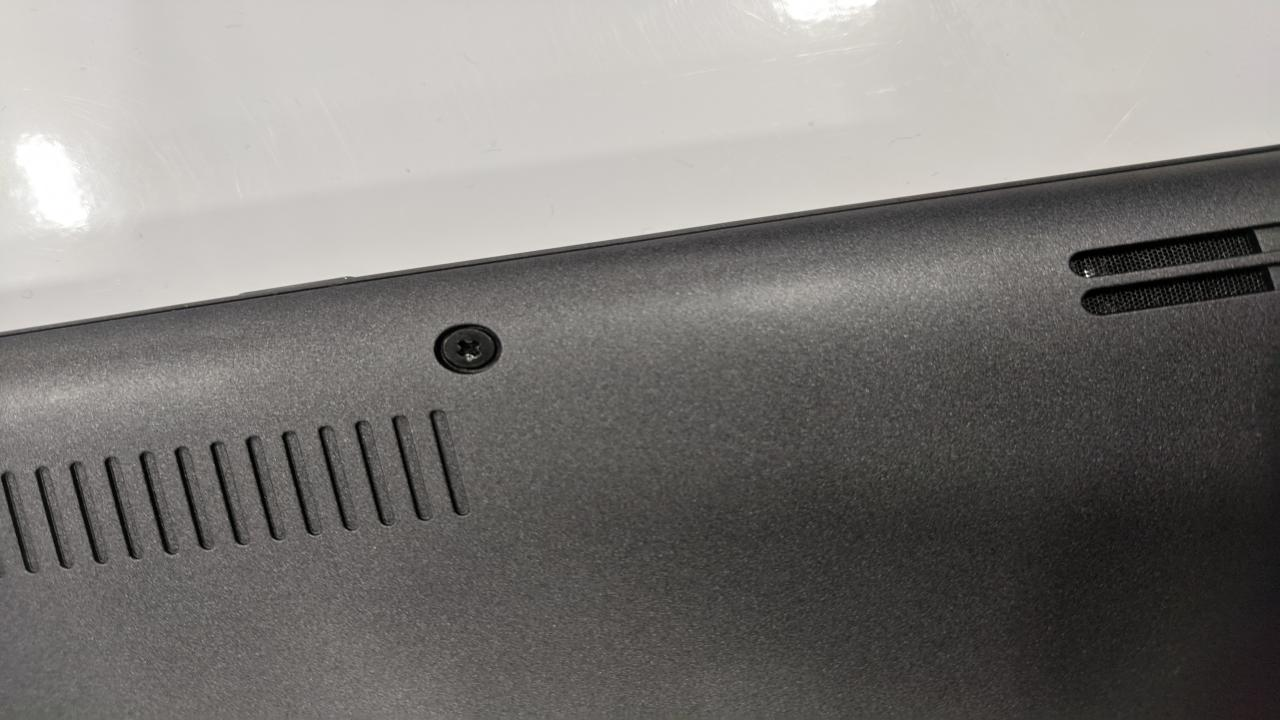CRS: (438, 324, 498, 369)
